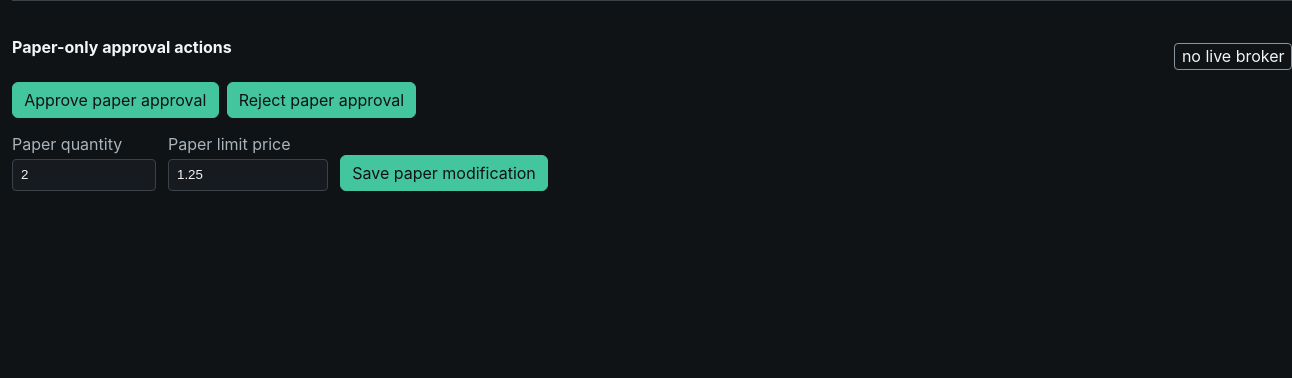
Test case: modifies quantity and limit price with bounded validation
Replace the text in the field labelled "Paper quantity" with "0" at (84, 175), box [12,159,156,191]
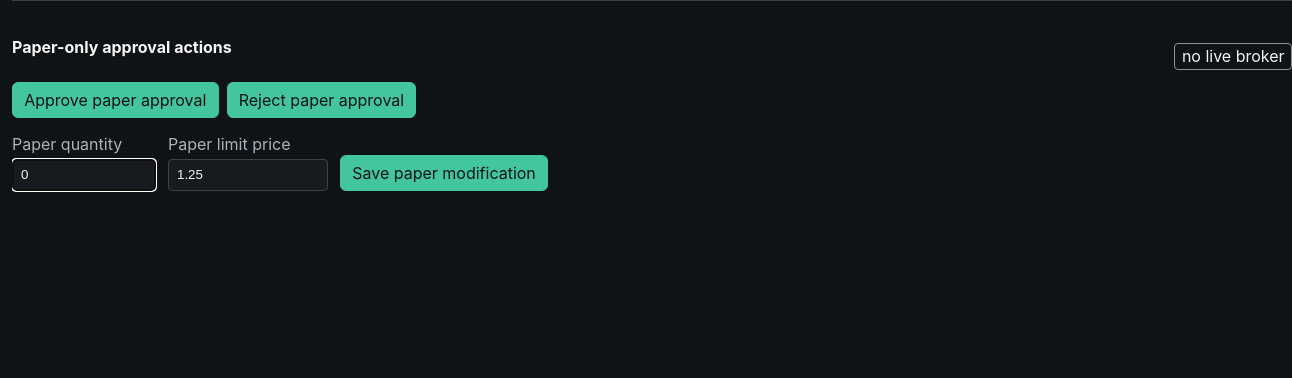
Click the button "Save paper modification" at (444, 173), box [340,155,548,191]
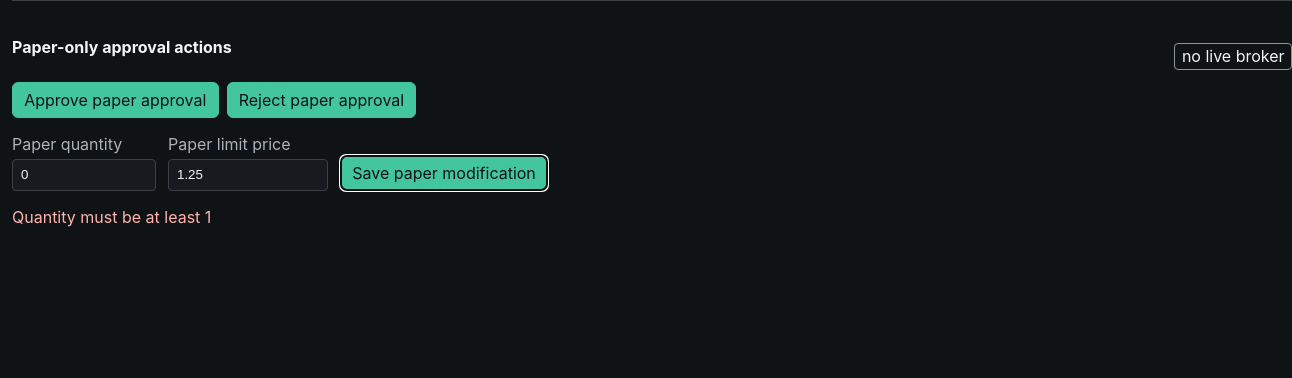
Expected: the message reads "Quantity must be at least 1", [12,207,211,227]
Replace the text in the field labelled "Paper quantity" with "3" at (84, 175), box [12,159,156,191]
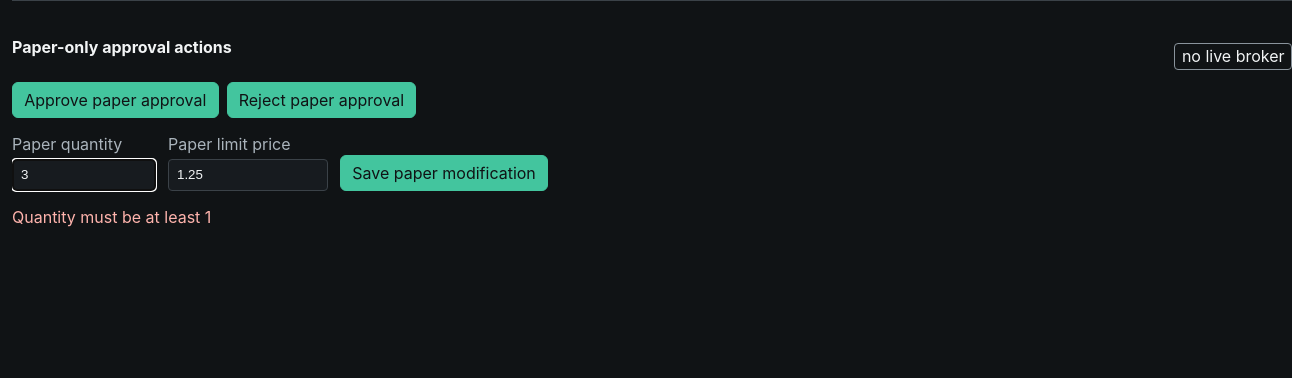
Replace the text in the field labelled "Paper limit price" with "1.10" at (248, 175), box [168,159,328,191]
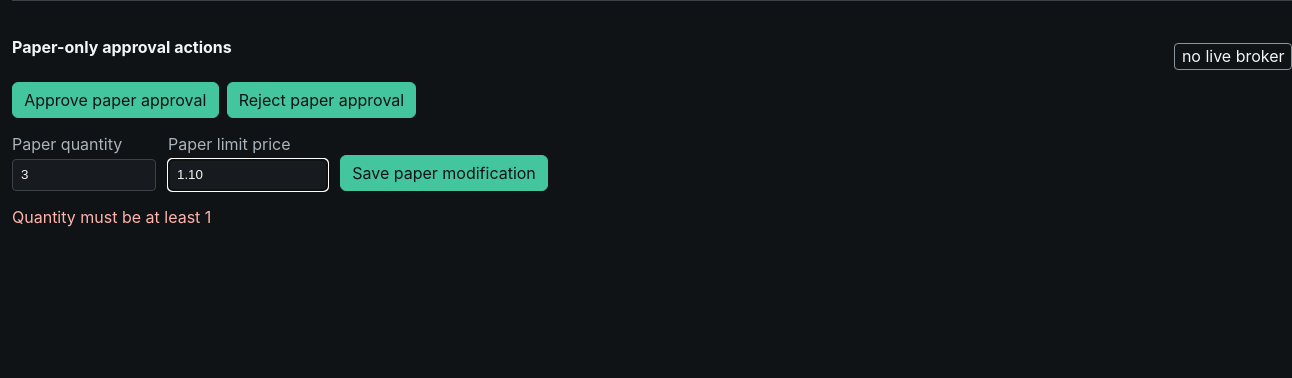
Click the button "Save paper modification" at (444, 173), box [340,155,548,191]
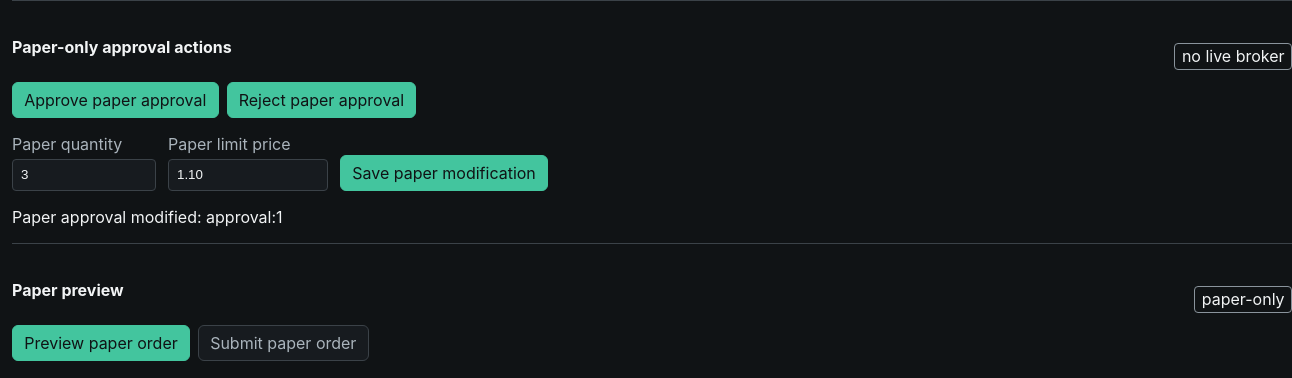
Expected: the text "Paper approval modified: approval:1" is shown, [12,207,283,227]
